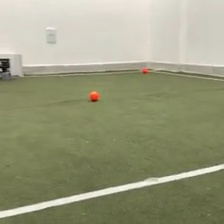ball: (87, 88, 99, 102), (141, 65, 148, 73)
goal: (1, 52, 24, 81)
robot: (1, 57, 13, 79)
